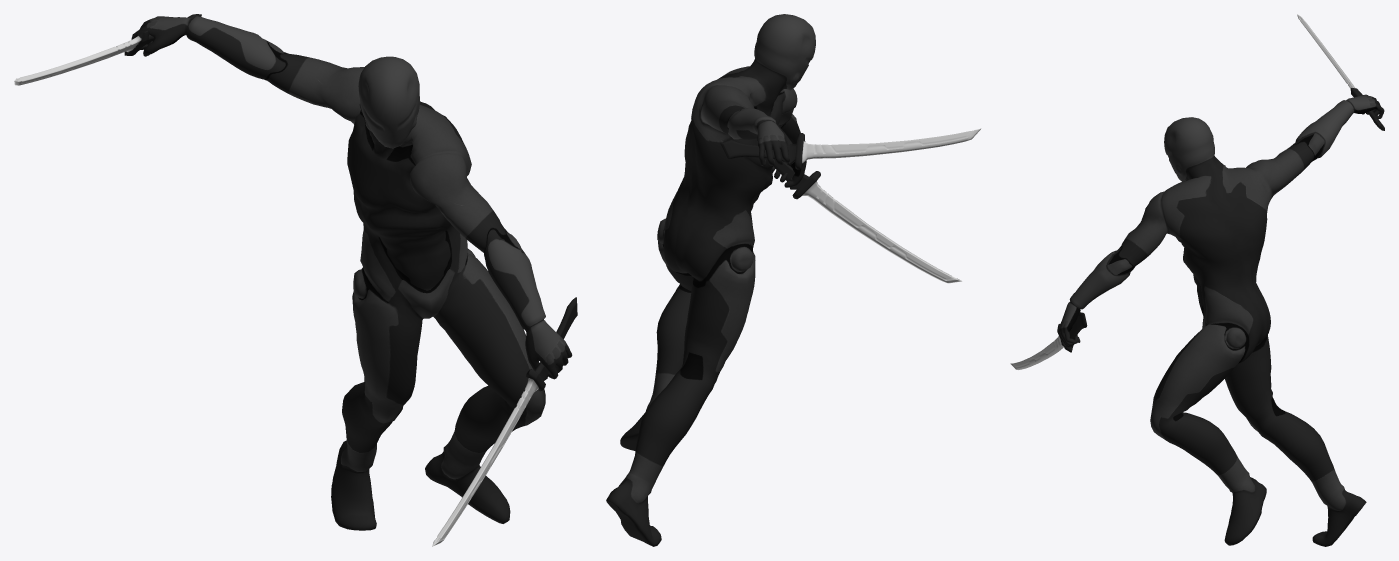
The picture shows the model from 3 angles, left to right: view 1: azimuth 30°, elevation 25°; view 2: azimuth 150°, elevation 25°; view 3: azimuth 270°, elevation 25°; orthographic projection. The views are drawn at different scales.
Parts seen in each view (by area): view 1: Cyborg_Ninja_Killer, Sword_l, Sword_l001; view 2: Cyborg_Ninja_Killer, Sword_l001, Sword_l; view 3: Cyborg_Ninja_Killer, Sword_l, Sword_l001.
Boxes of the visible parts, x1=… form: Cyborg_Ninja_Killer: x1=131, y1=16, x2=572, y2=530; Sword_l: x1=432, y1=297, x2=577, y2=546; Sword_l001: x1=14, y1=14, x2=201, y2=85; Cyborg_Ninja_Killer: x1=606, y1=14, x2=815, y2=546; Sword_l001: x1=720, y1=128, x2=981, y2=169; Sword_l: x1=773, y1=159, x2=962, y2=283; Cyborg_Ninja_Killer: x1=1059, y1=94, x2=1384, y2=546; Sword_l: x1=1010, y1=312, x2=1087, y2=369; Sword_l001: x1=1297, y1=14, x2=1384, y2=130.
Size of the model in its own units: 152 by 177 by 150.
Materials: 2 (2 with a texture image).
